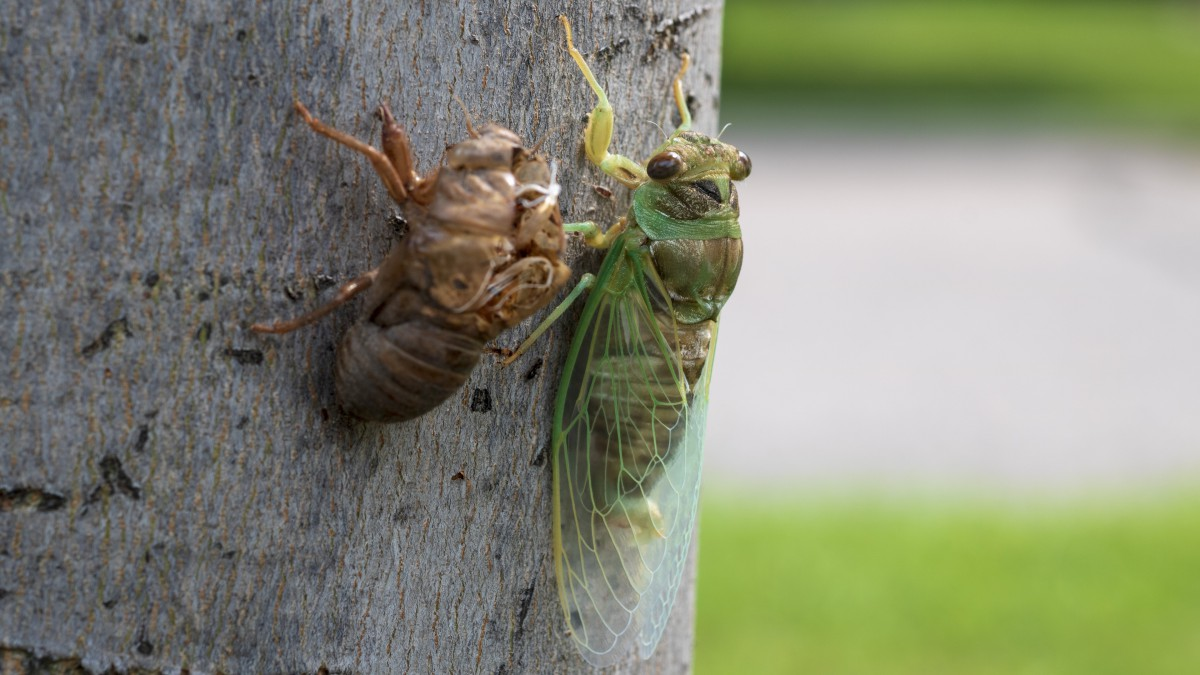chan: (561, 106, 746, 642), (302, 118, 559, 443)
